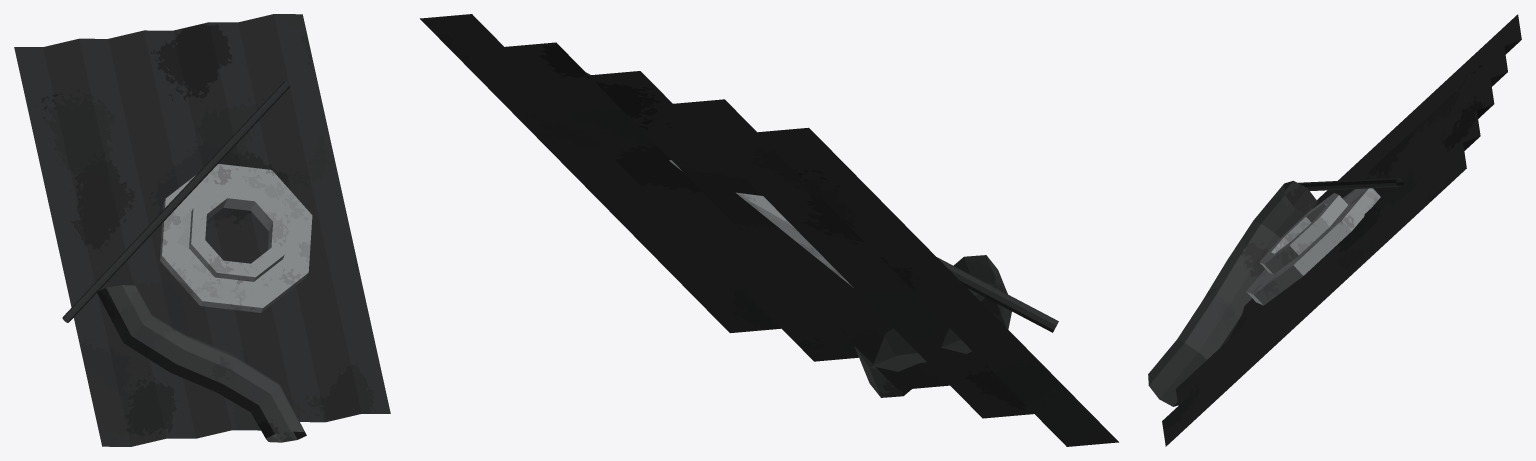
File: Scrap Export.glb
3 renders of one model, left to right at view 1: azimuth 30°, elevation 25°; view 2: azimuth 150°, elevation 25°; view 3: azimuth 270°, elevation 25°, orthographic. The views are drawn at different scales.
Parts seen in each view (by area): view 1: Circle.001; view 2: Circle.001; view 3: Circle.001.
Boxes of the visible parts, x1,y1,x2,y2 form: Circle.001: (14,14,390,446); Circle.001: (420,14,1118,446); Circle.001: (1148,14,1521,446).
Size of the model in its own units: 12.58 by 11.7 by 11.95.
Materials: 1 (1 with a texture image).
